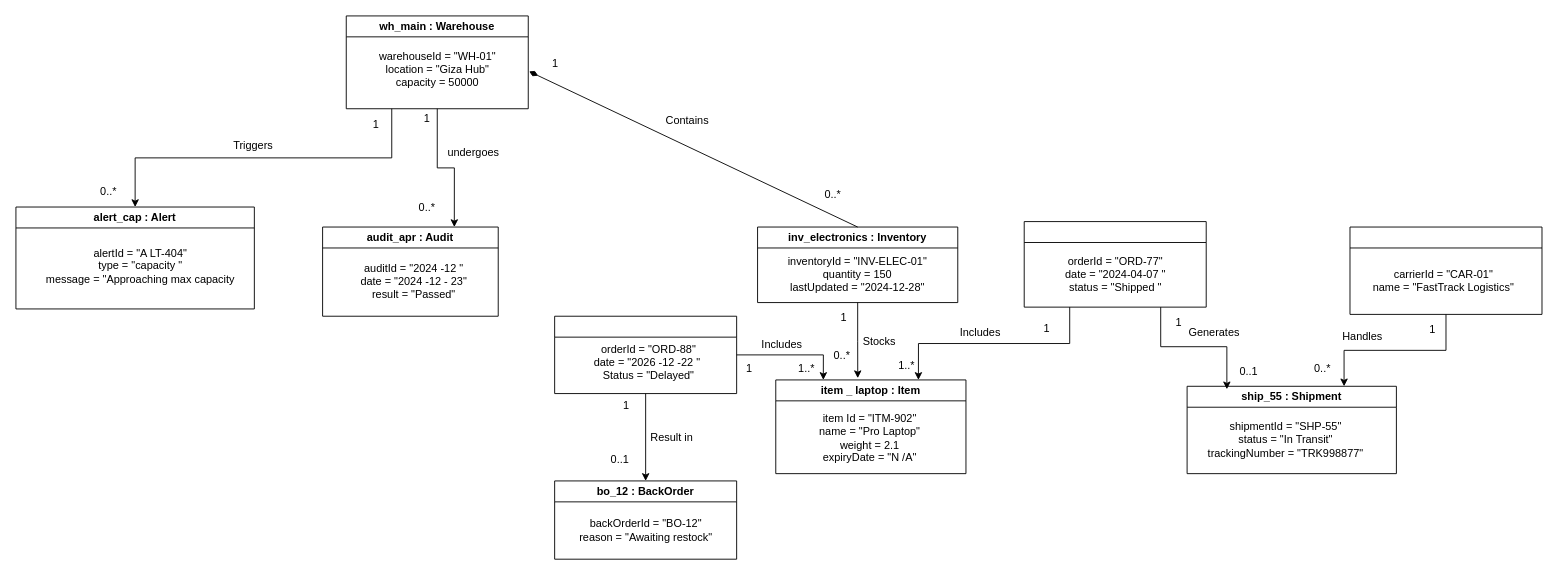
This 1558x575 diagram has some shape labels left out. Here are the shapes that lost their labels. From the top down, the box of each, then its label:
(1023, 221, 1206, 307): ord_77 : Order
(1349, 226, 1542, 314): carrier_fast : C arrier
(554, 315, 737, 394): ord_88 : Order
